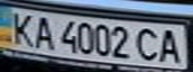0: (93, 21, 112, 57), (75, 20, 93, 55)
2: (109, 22, 136, 60)
4: (54, 17, 78, 53)
A: (154, 26, 187, 64), (30, 13, 57, 51)
C: (133, 25, 163, 63)
K: (3, 10, 39, 47)
